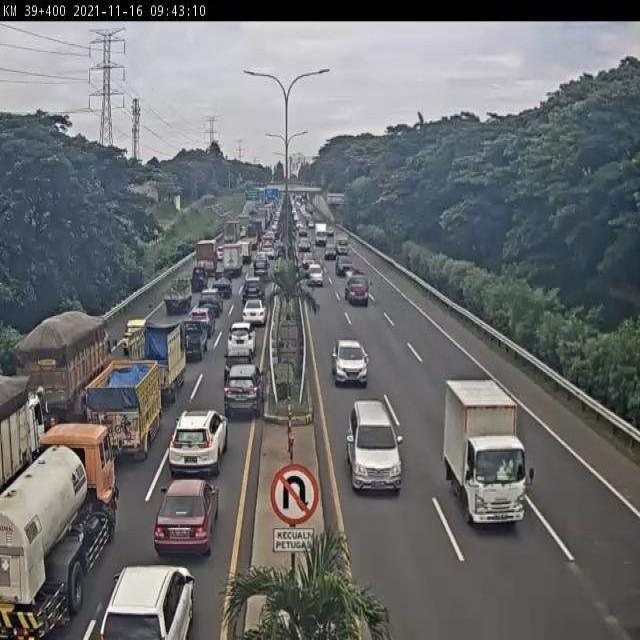car: (153, 478, 220, 558), (169, 410, 229, 478), (223, 364, 266, 420), (226, 322, 257, 358), (182, 319, 208, 361), (223, 348, 253, 383), (188, 307, 216, 337), (123, 320, 149, 349), (198, 288, 223, 315), (241, 299, 268, 324), (241, 277, 265, 303), (213, 270, 233, 298), (190, 265, 209, 291)
truck: (0, 421, 117, 640), (444, 380, 527, 527), (12, 315, 110, 424), (88, 359, 163, 461), (0, 378, 45, 498), (131, 324, 185, 401), (162, 279, 192, 312), (344, 273, 370, 307)
